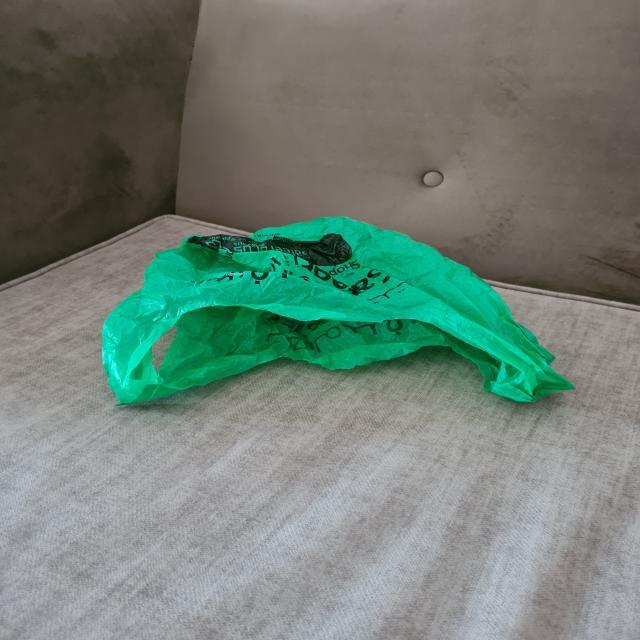plastic: (100, 216, 573, 405)
